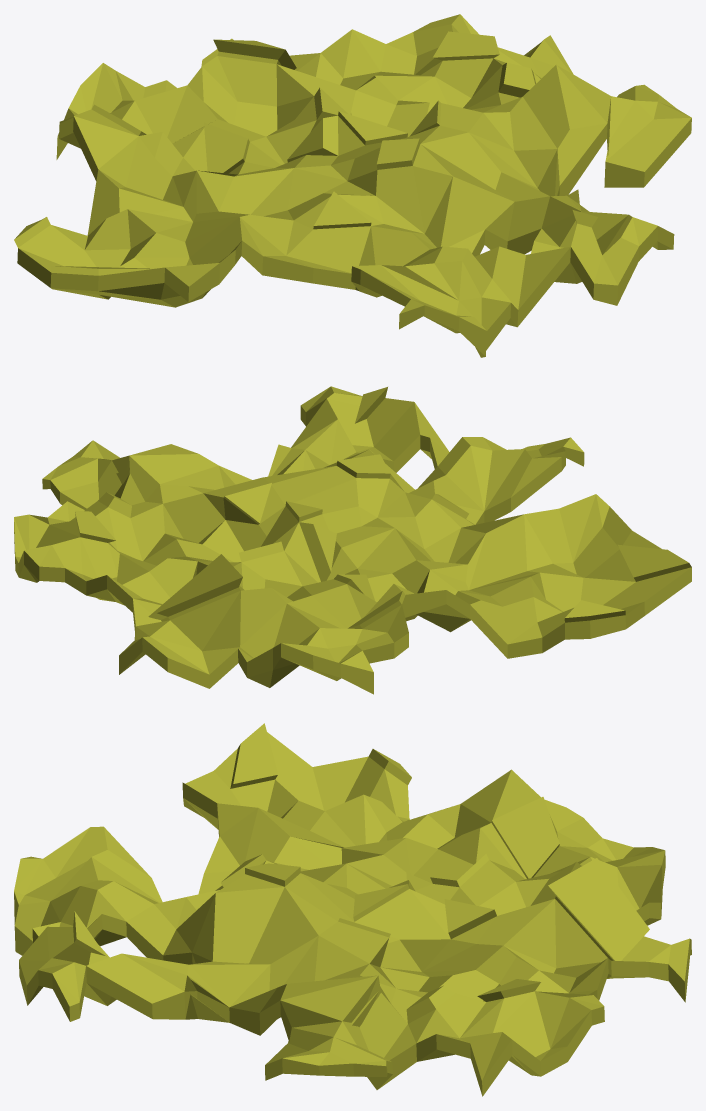
File: GreenMoss_01.fbx
3 views of the same model, one above another, from view 1: azimuth 30°, elevation 25°; view 2: azimuth 150°, elevation 25°; view 3: azimuth 270°, elevation 25° (orthographic). The views are drawn at different scales.
Parts seen in each view (by area): view 1: Moss_01; view 2: Moss_01; view 3: Moss_01.
Boxes of the visible parts, left/top/right/bottom form: Moss_01: left=14, top=14, right=691, bottom=357; Moss_01: left=14, top=386, right=691, bottom=694; Moss_01: left=14, top=723, right=691, bottom=1096.
Bounding box in the file's own units: 289 × 47.57 × 257.
